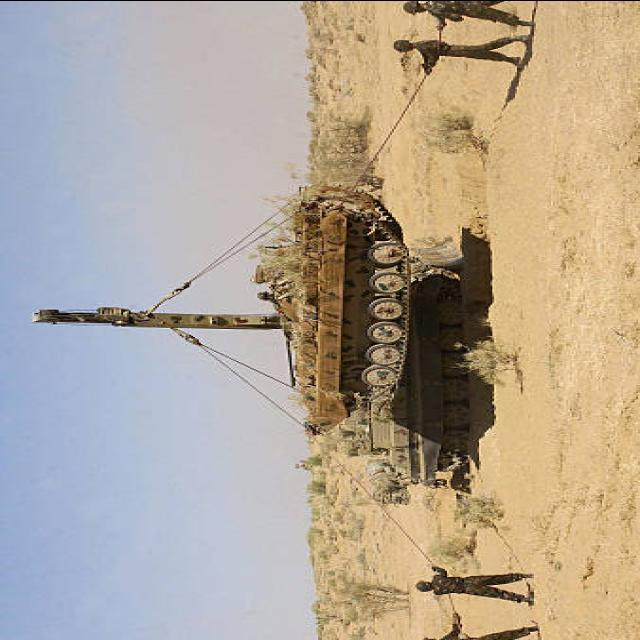soldier: (392, 34, 528, 74), (417, 566, 535, 605), (403, 0, 532, 31), (420, 612, 540, 640)
